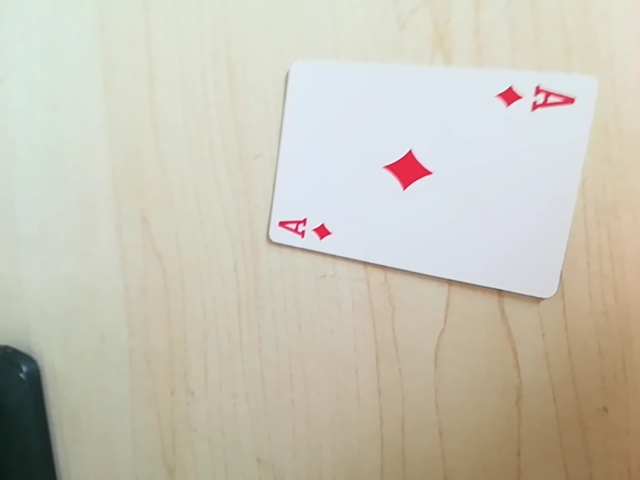fk a: (494, 81, 580, 119), (274, 212, 340, 246)
